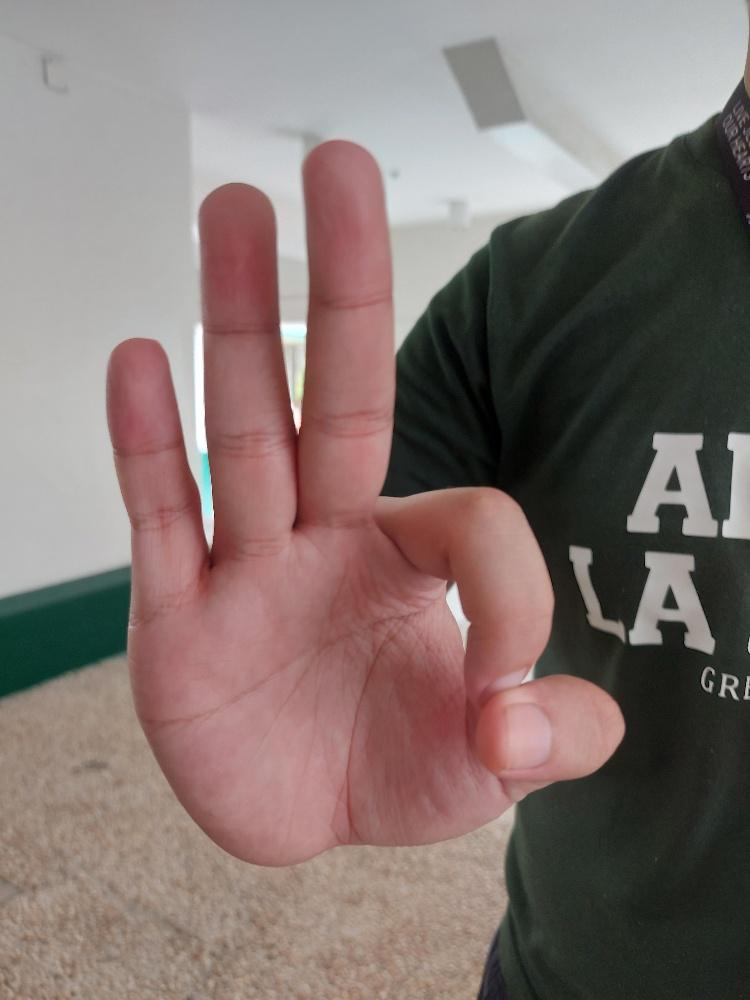f: (103, 135, 630, 870)
